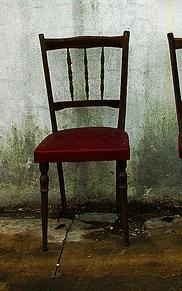obstacle: (34, 31, 129, 250)
